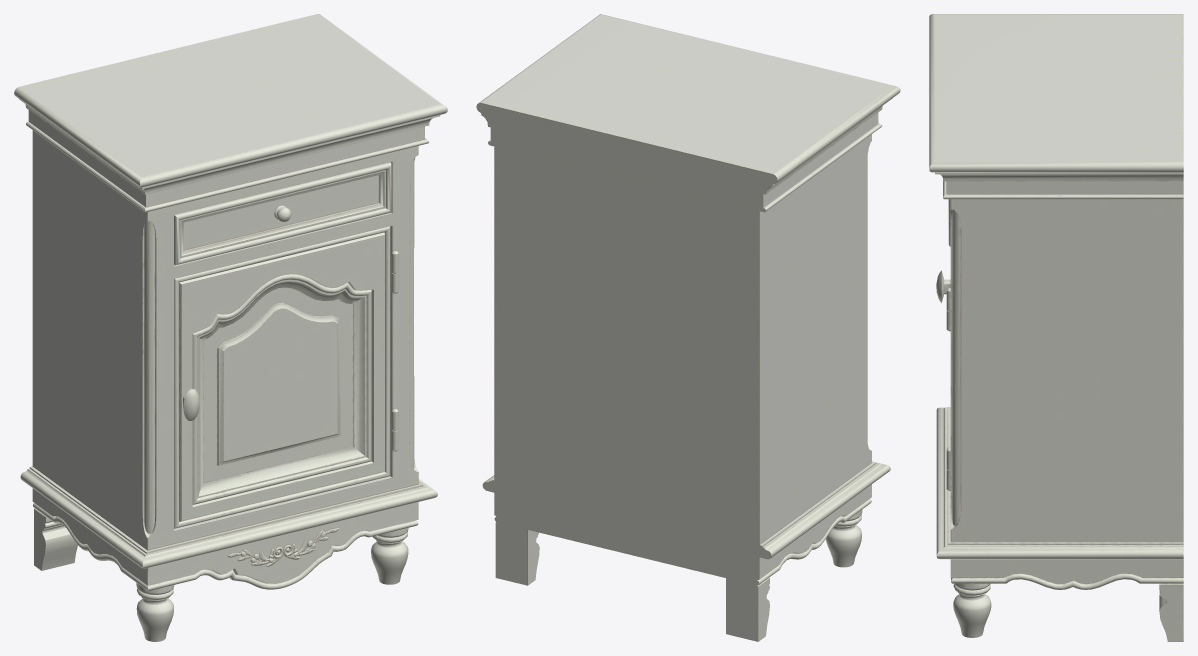
The model's file is example172.glb.
3 renders of one model, left to right at view 1: azimuth 30°, elevation 25°; view 2: azimuth 150°, elevation 25°; view 3: azimuth 270°, elevation 25°, orthographic. The views are drawn at different scales.
Parts seen in each view (by area): view 1: Buffer Layer; view 2: Buffer Layer; view 3: Buffer Layer.
Boxes of the visible parts, x1,y1,x2,y2 form: Buffer Layer: (14,14,447,641); Buffer Layer: (476,14,900,641); Buffer Layer: (929,14,1183,641).
Size of the model in its own units: 0.46 by 0.688 by 0.3253.
Materials: 1 (1 with a texture image).
